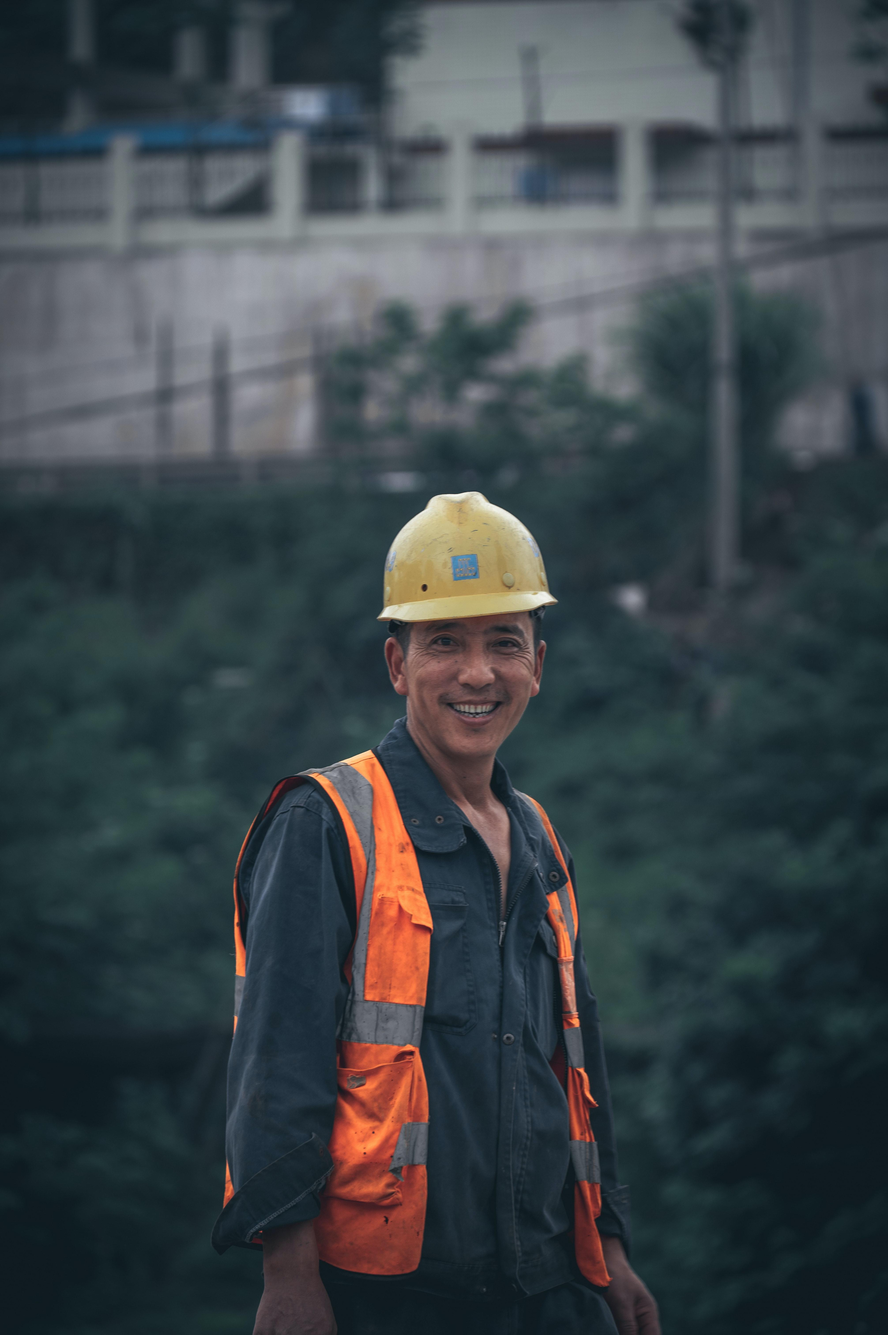Helmet: (334, 486, 596, 623)
